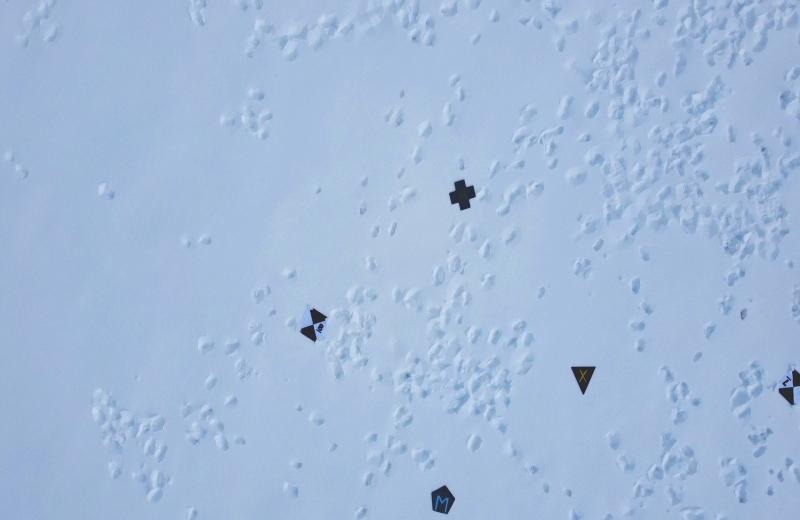Cross: (447, 178, 479, 214)
Pentagon: (424, 482, 457, 518)
Triangle: (566, 358, 600, 400)
